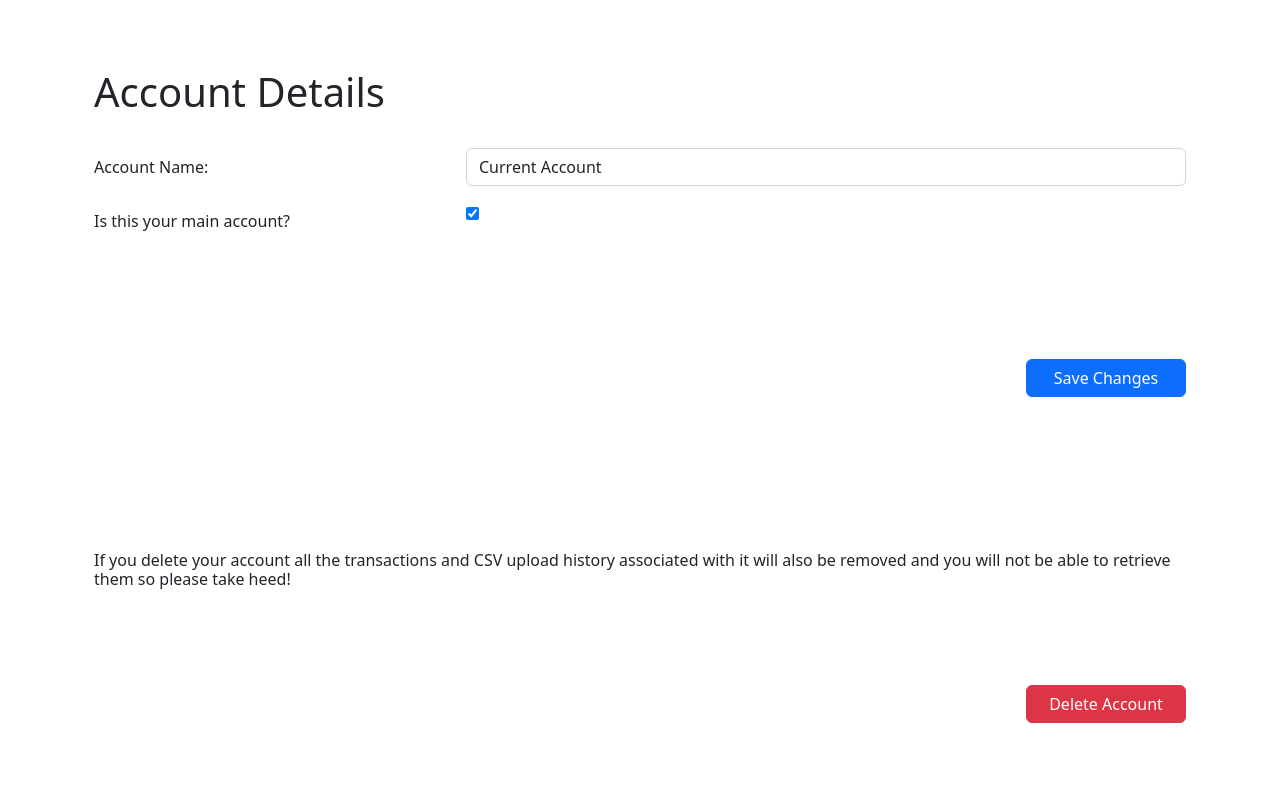
Test: a network error on delete keeps the user on the page and shows an error
Expected: the field showing "Current Account" is shown, top-left (466, 148), bottom-right (1186, 186)
What coordinates should you click on to do the following:
click the button "Delete Account"
I would click on:
 (1106, 704)
Its box is top-left (1026, 685), bottom-right (1186, 723).
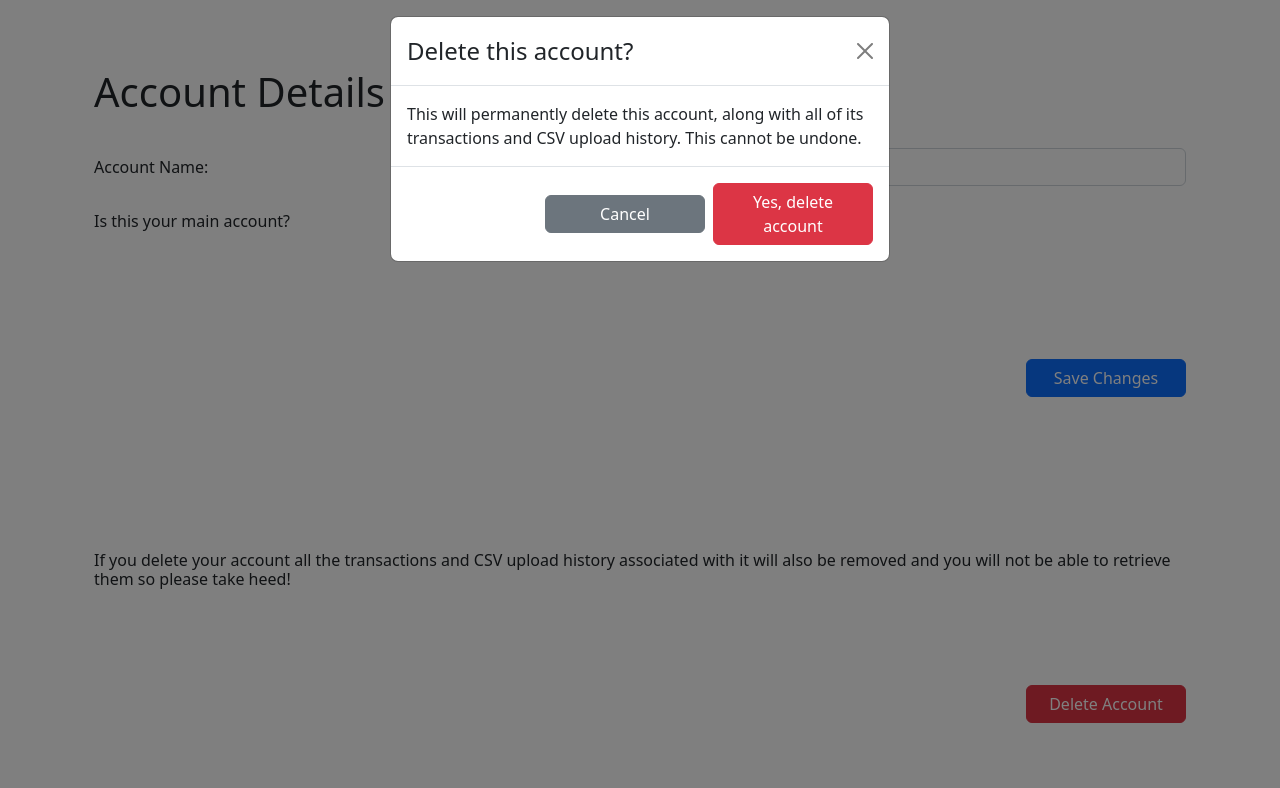
What coordinates should you click on to do the following:
click the button "Yes, delete account"
I would click on:
 (793, 214)
Its box is top-left (713, 183), bottom-right (873, 245).
(page scrolled)
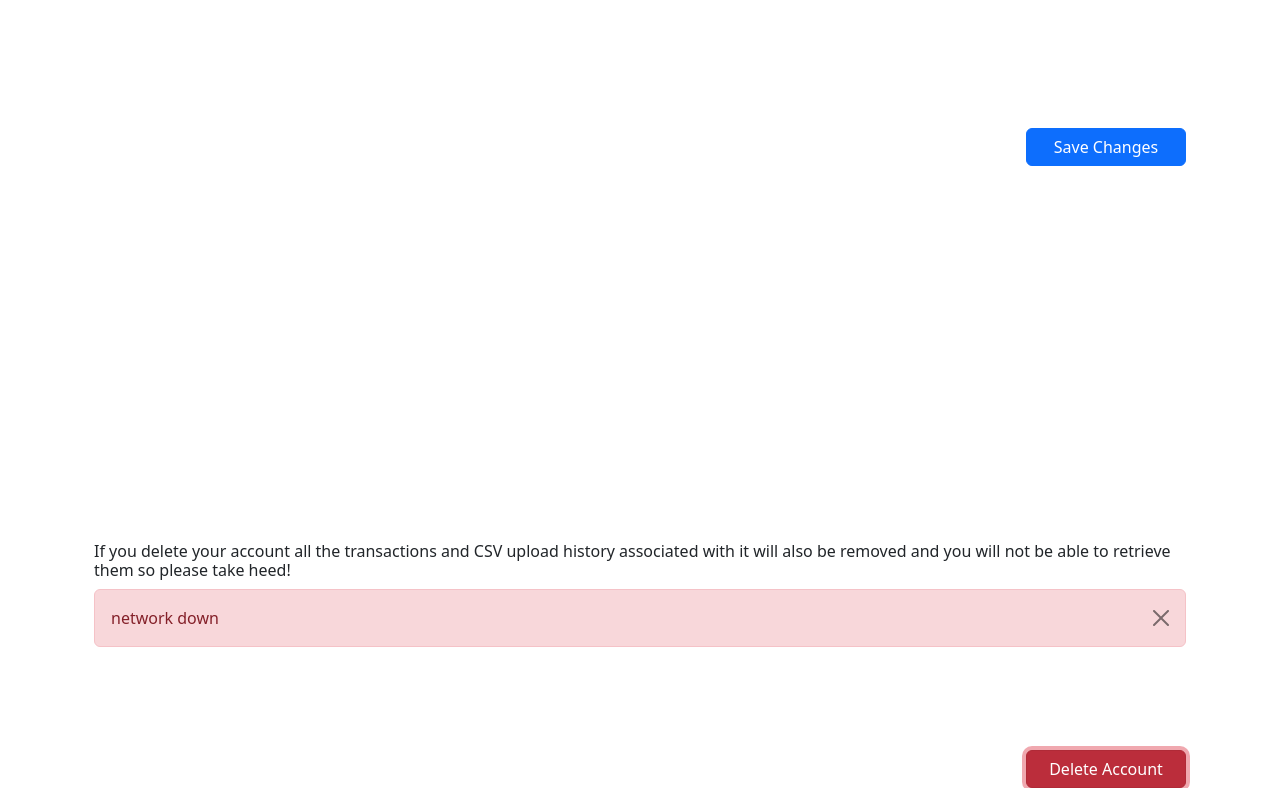
Expected: the text "network down" is shown, top-left (94, 589), bottom-right (1186, 647)
